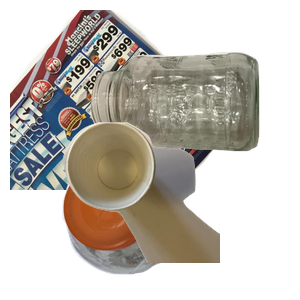glass: (88, 50, 300, 194)
paper: (10, 10, 240, 190)
plastic: (60, 152, 237, 300)
trash: (60, 120, 300, 300)
